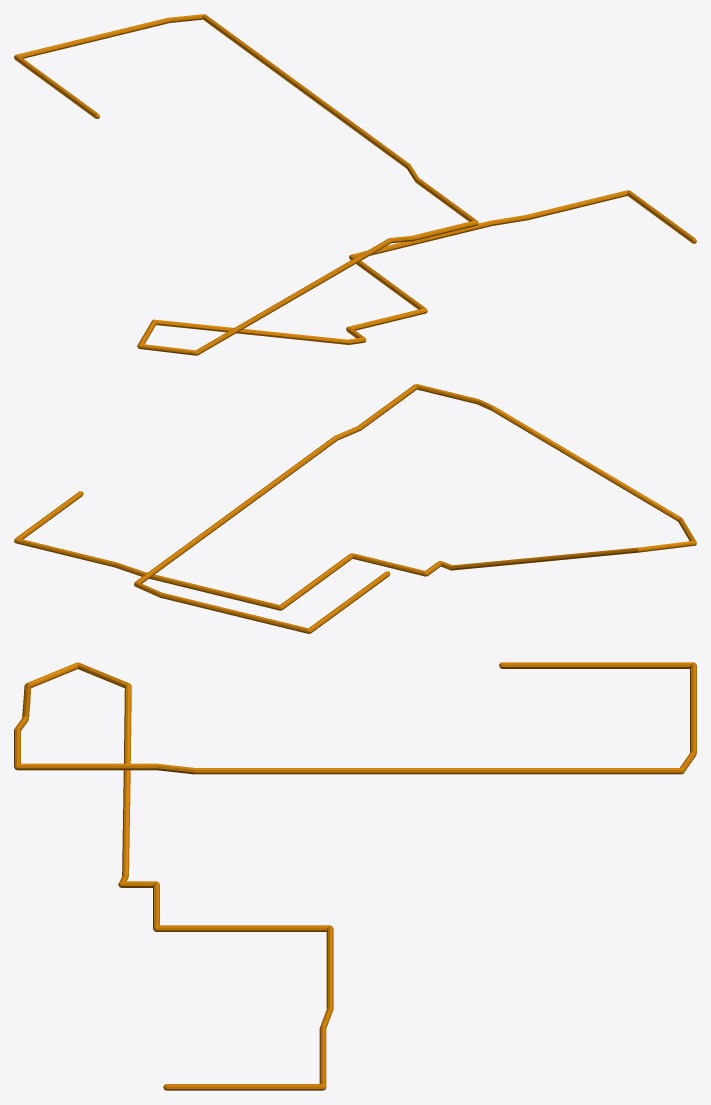
3 views of the same model, one above another, from view 1: azimuth 30°, elevation 25°; view 2: azimuth 150°, elevation 25°; view 3: azimuth 270°, elevation 25° (orthographic). The views are drawn at different scales.
Bounding box in the file's own units: 2356 × 520 × 1966.
